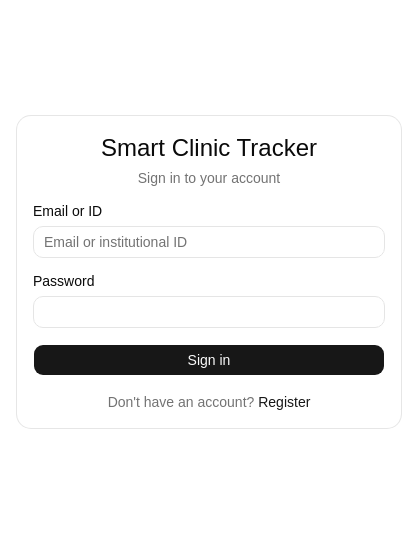
Test: Login › shows resend form when login returns unverified-email 403
In the field labelled "Email or ID": (209, 242) [33,226,385,258], type "user@test.com"
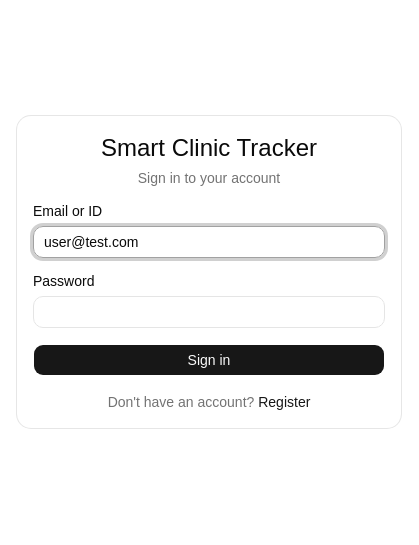
In the password field labelled "Password": (209, 312) [33,296,385,328], type "wrongpass"
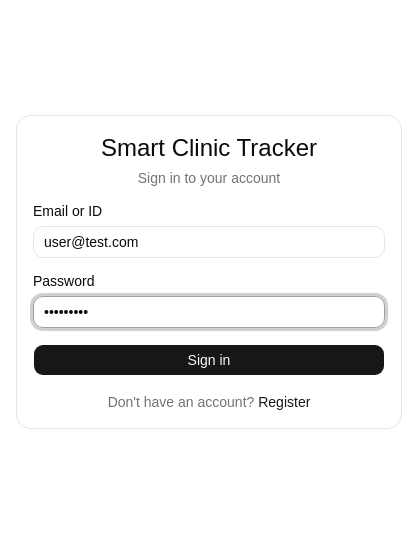
Click the button "Sign in": click(209, 360) [33,344,385,376]
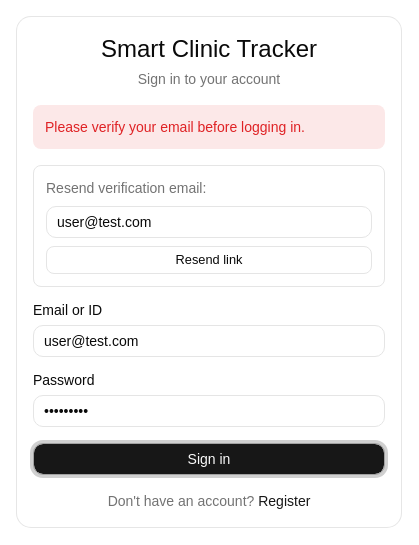
Check: the text "Resend verification email:" is shown, box [46,180,206,196]
Check: the field with placeholder "your@email.com" holds "user@test.com", box [46,206,372,238]
